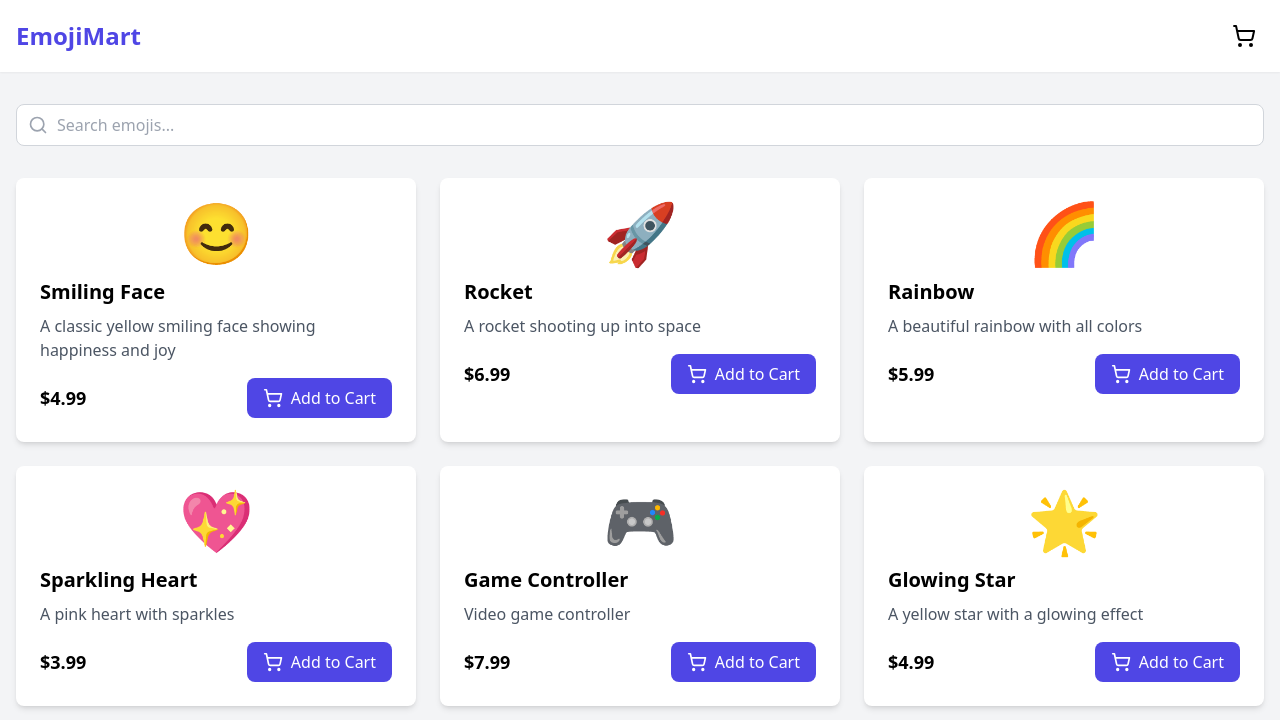
Test case: Emoji Mart App › should update the quantity of an emoji in the cart
Click the text "😊": (216, 232) [40, 202, 392, 262]
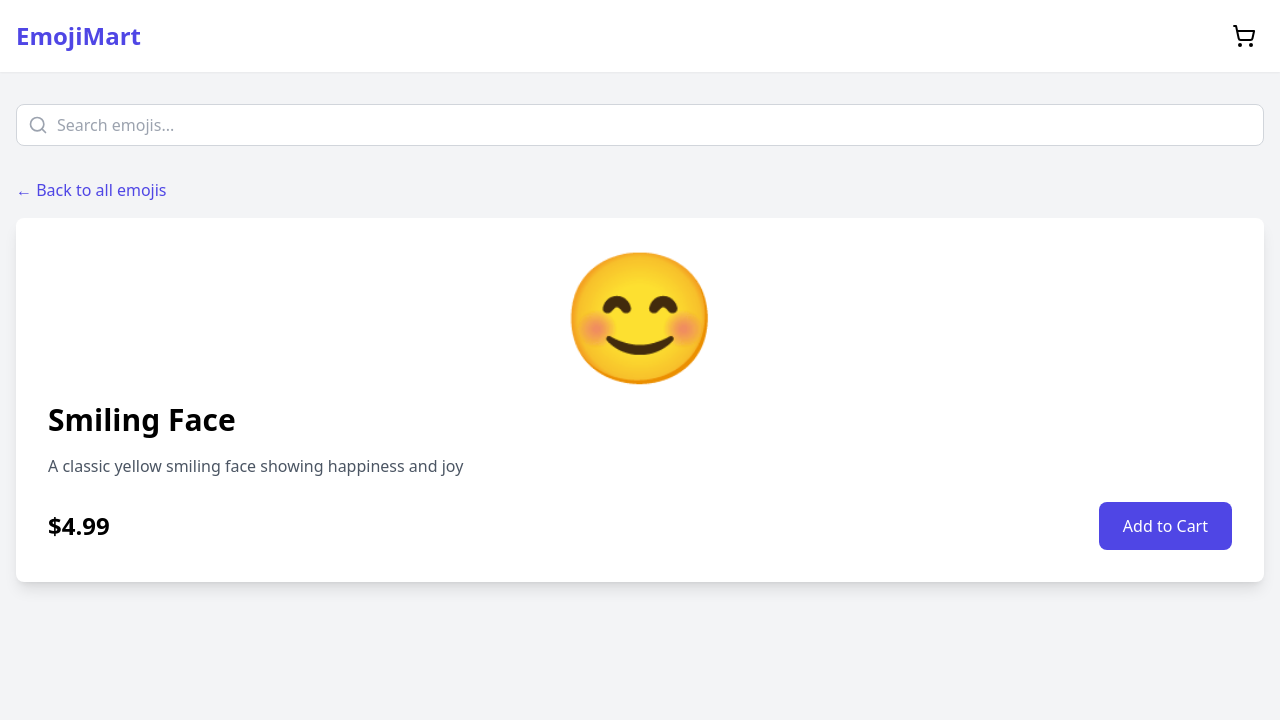
Click the button "Add to Cart": (1166, 526) [1099, 502, 1232, 550]
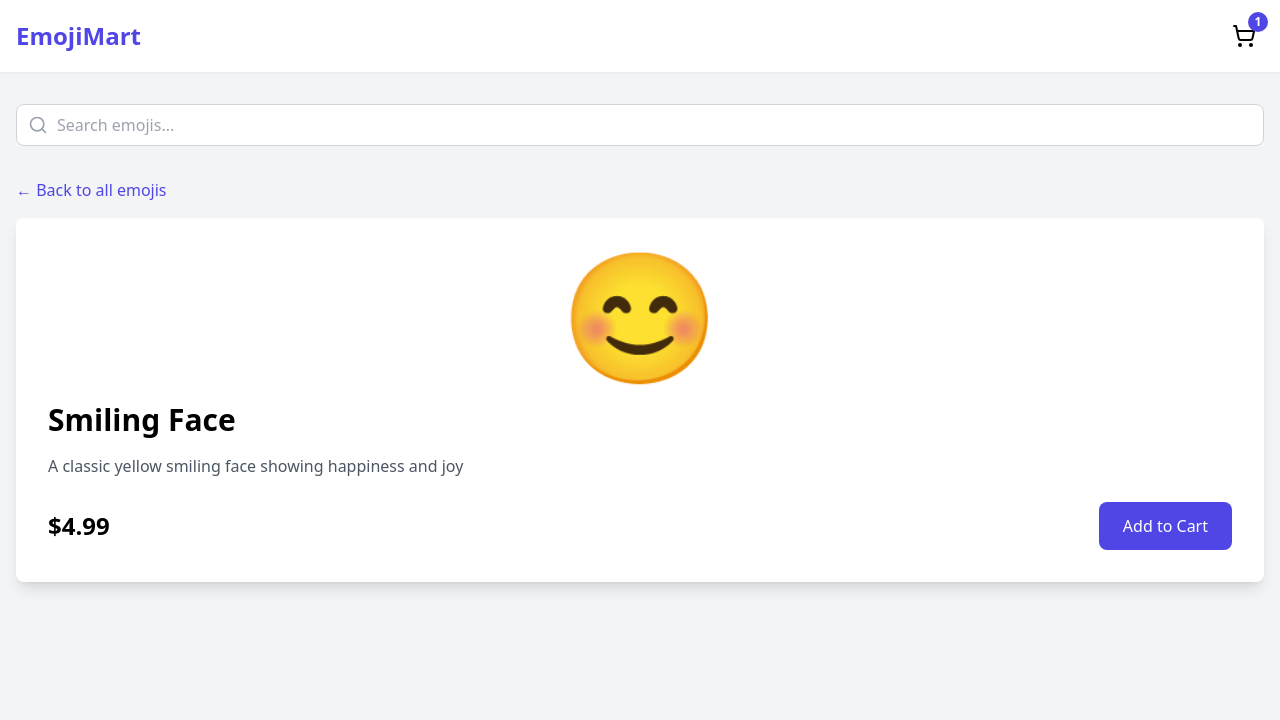
Click the icon with class "lucide-shopping-cart": (1244, 36) [1232, 24, 1256, 48]
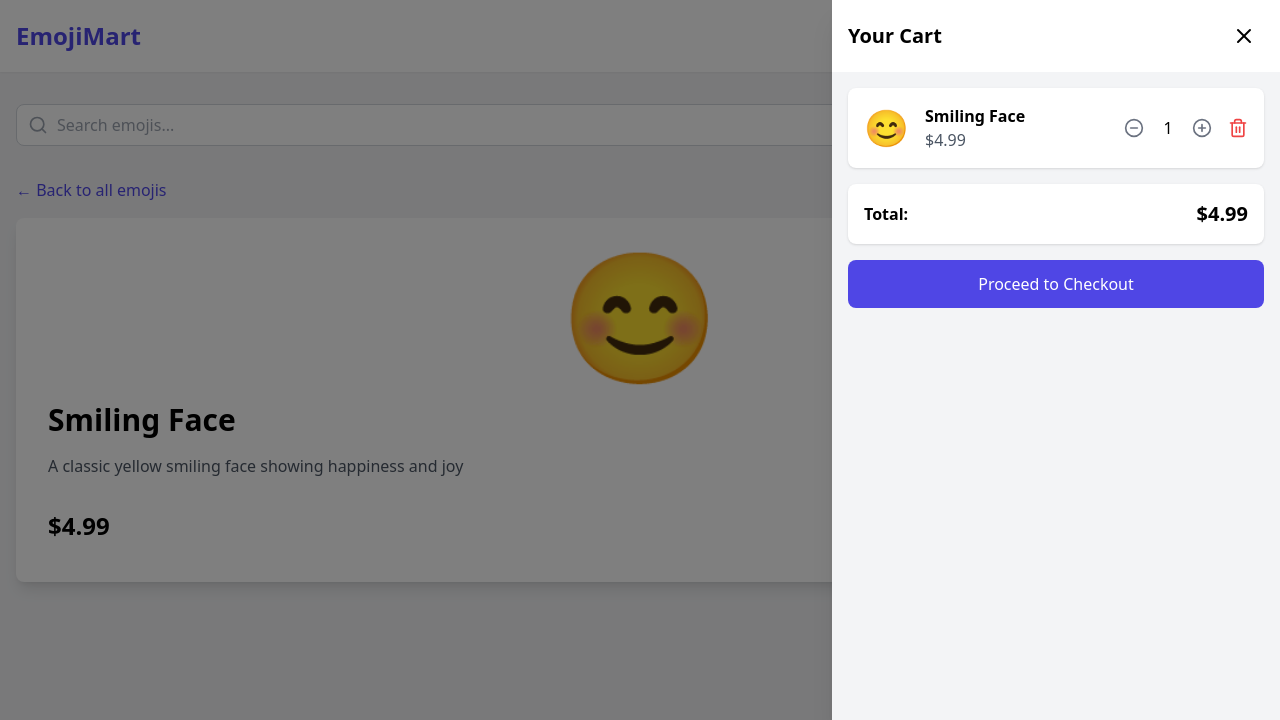
Now the text "😊" is shown, box [864, 108, 909, 148]
Click the icon with class "lucide-plus-circle": (1202, 128) [1192, 118, 1212, 138]
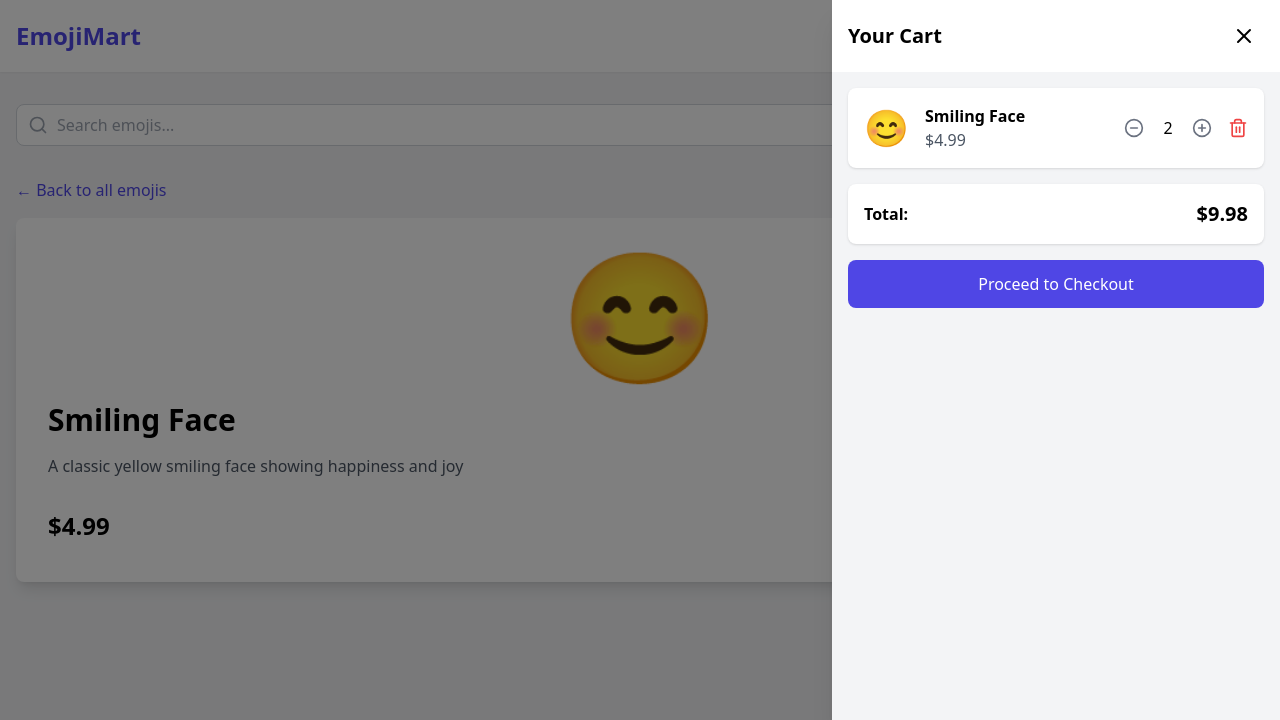
Now the text "2" is shown, box [1163, 117, 1173, 139]
